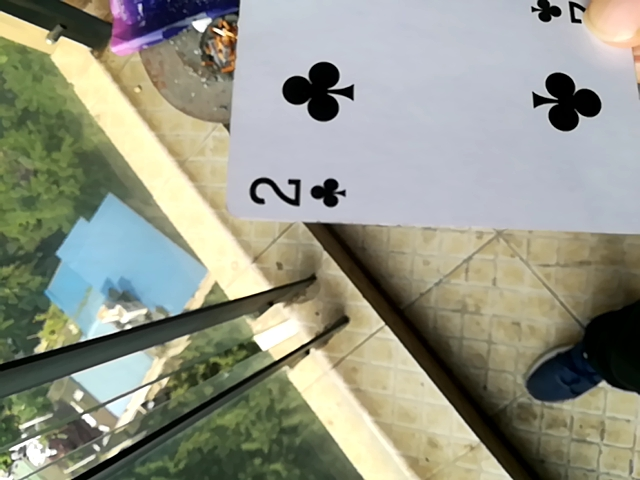mh 2: (225, 0, 638, 239)
